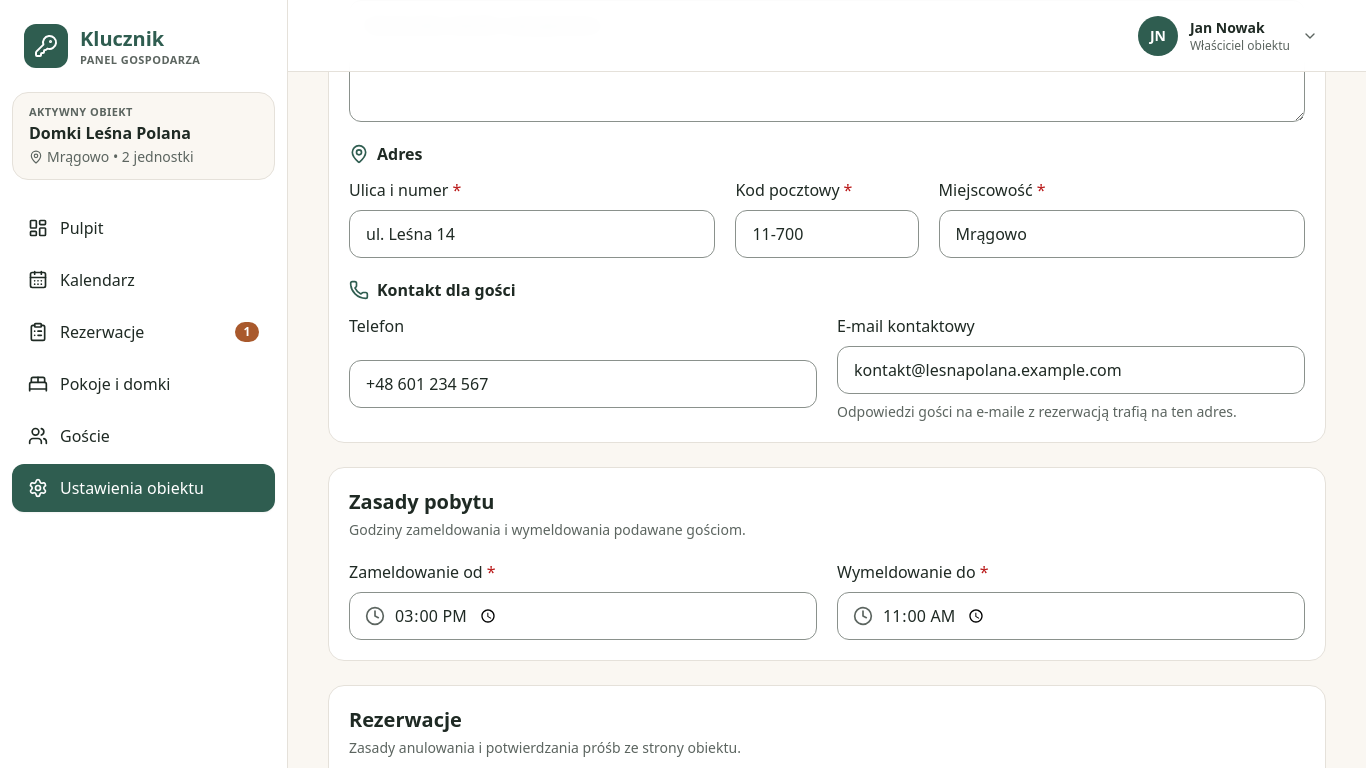
PropertySettingsPage (O8) › sends only changed fields; empty optional text → null
This screenshot has width=1366, height=768.
(page scrolled)
Clear the field labelled "Telefon" at [583, 384], box x1=349 y1=360 x2=817 y2=408
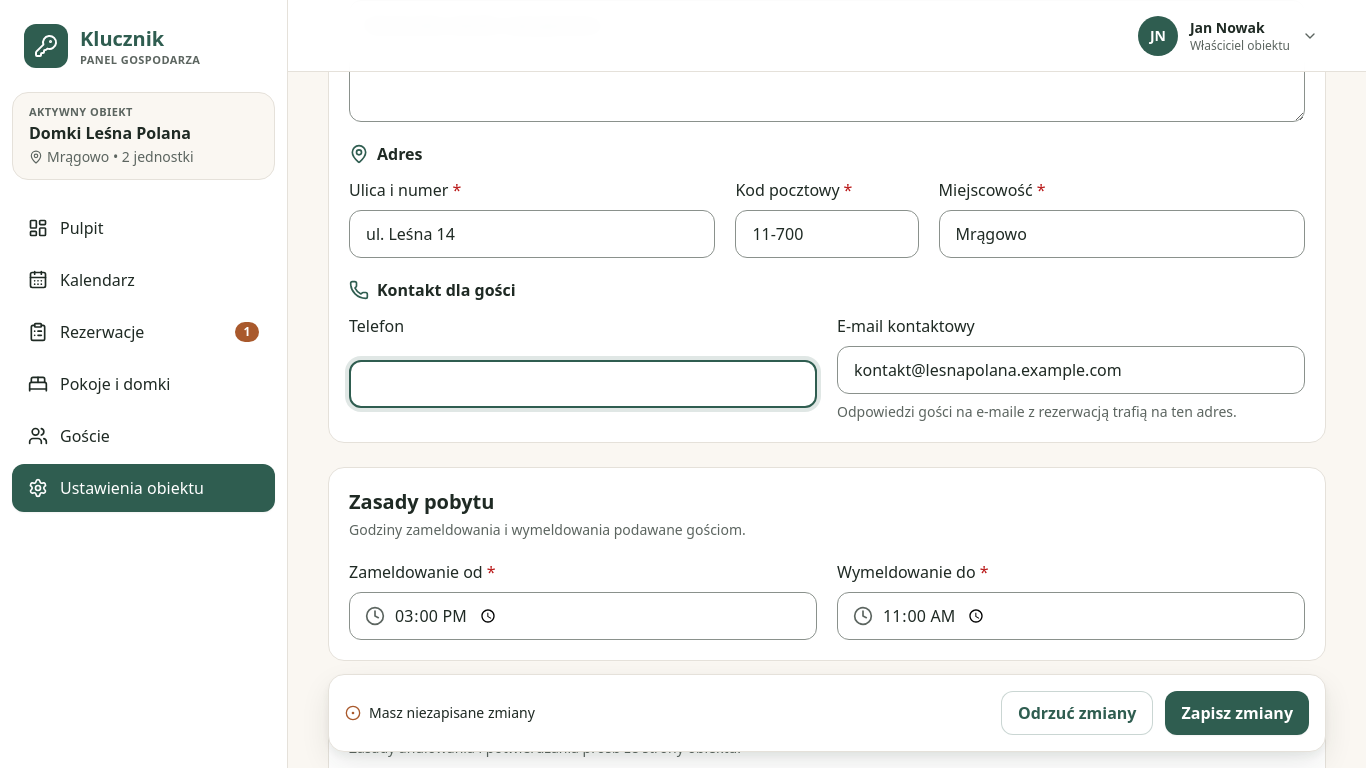
Replace the text in the time field labelled "Zameldowanie od *" with "14:00" at [583, 616], box x1=349 y1=592 x2=817 y2=640
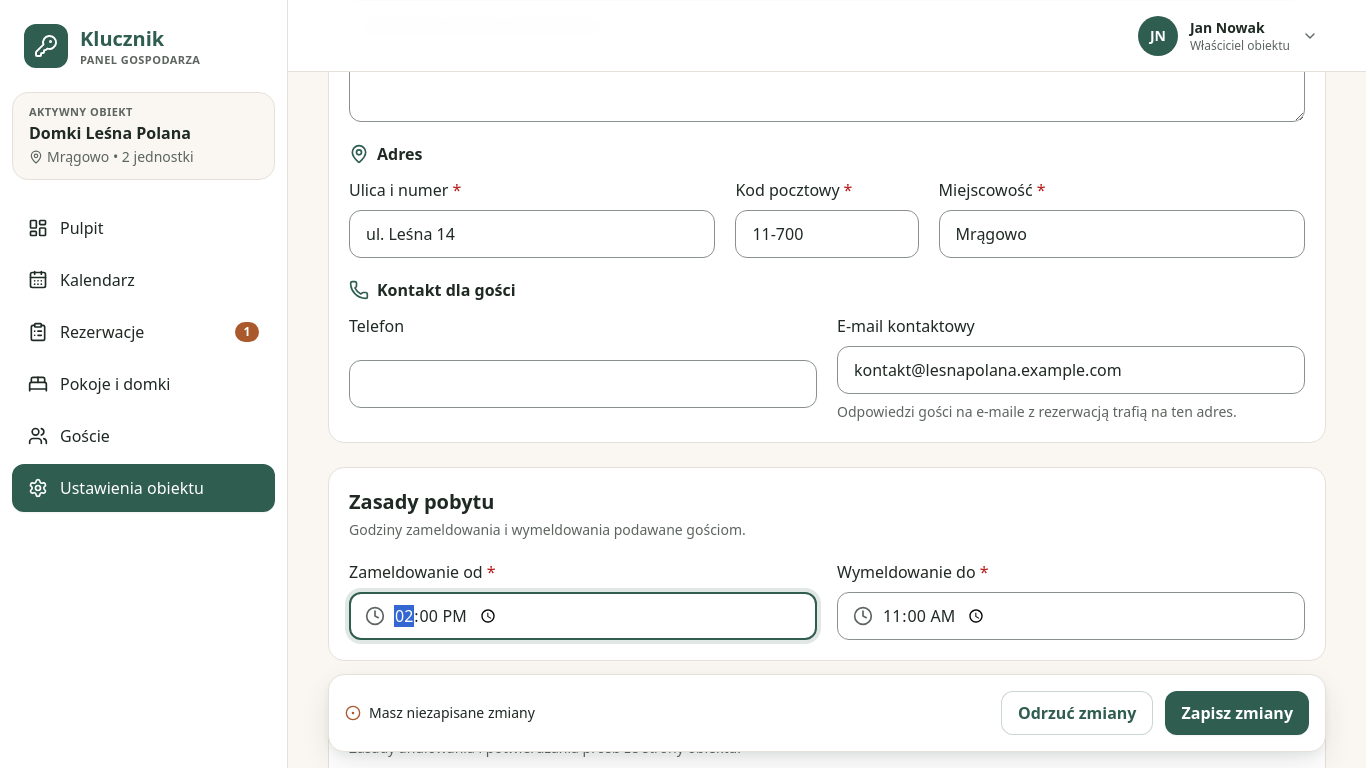
Click the button "Zapisz zmiany" at [1237, 713], box x1=1166 y1=691 x2=1309 y2=735
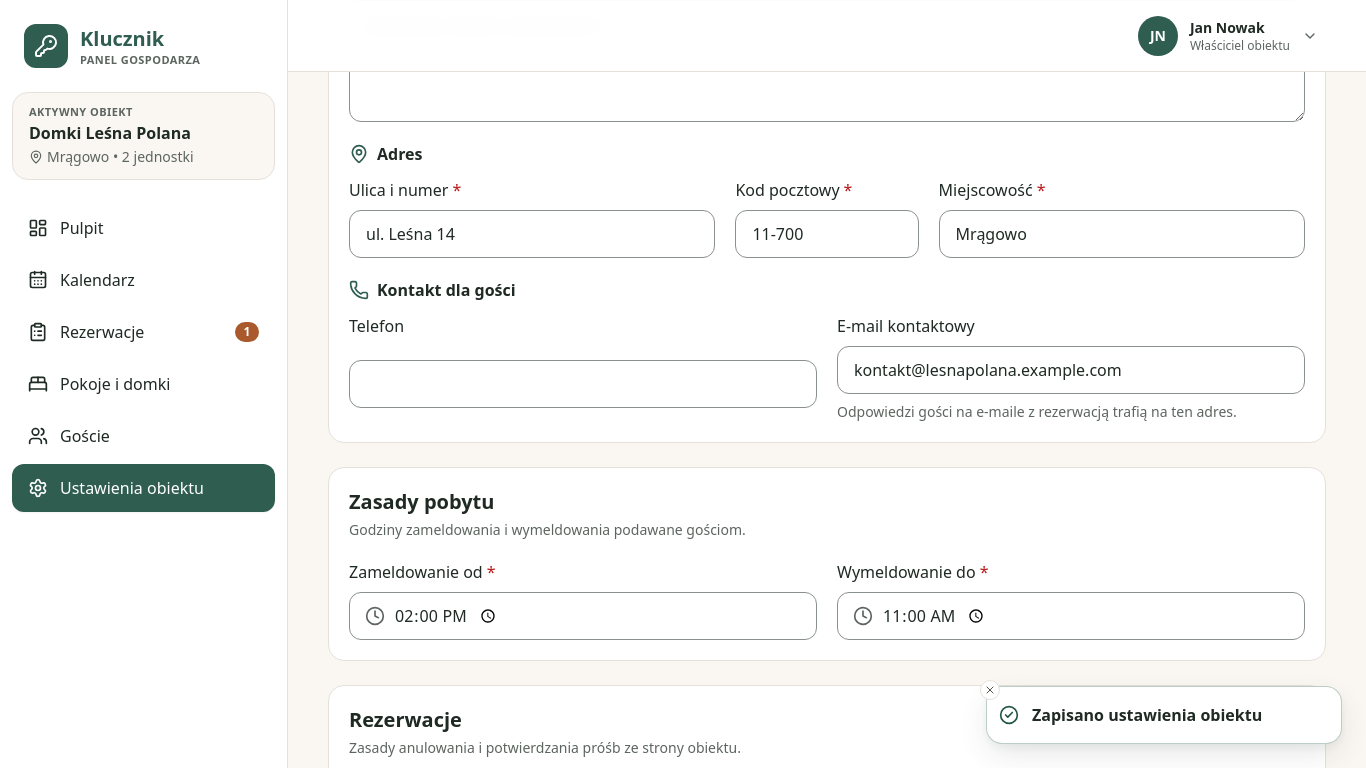
Expected: the text "Zapisano ustawienia obiektu" is shown, x1=1032 y1=703 x2=1262 y2=727
